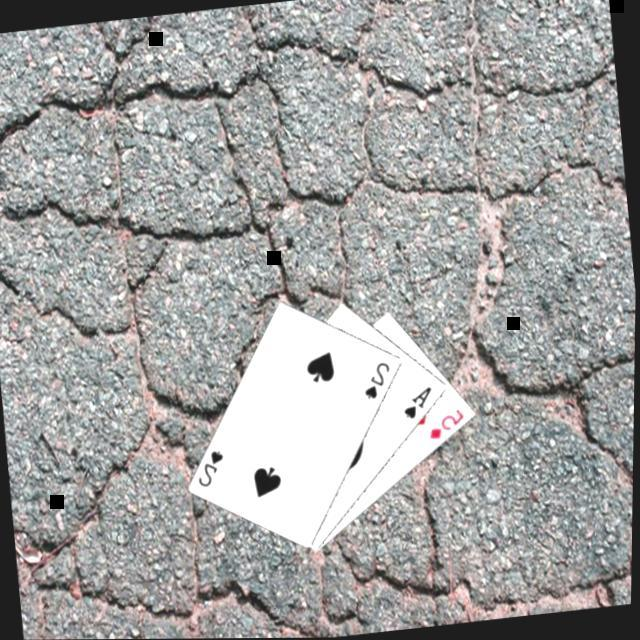2S: (359, 356, 398, 401), (193, 444, 232, 488)
5D: (425, 403, 470, 441)
AS: (400, 381, 440, 421)
